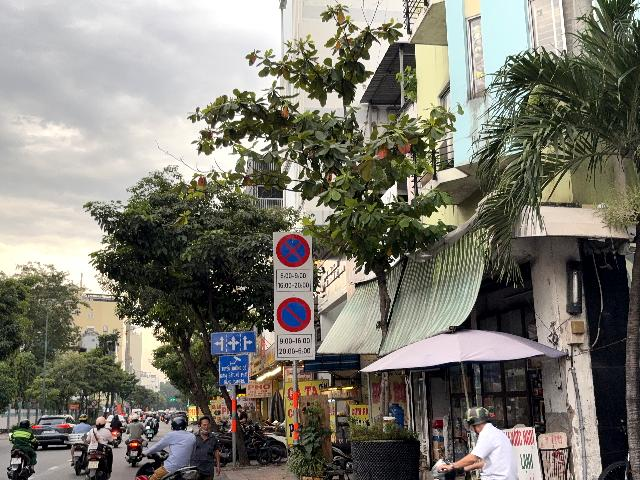cam-do-xe: (276, 297, 311, 332)
cam-dung-va-do-xe: (276, 234, 310, 268)
